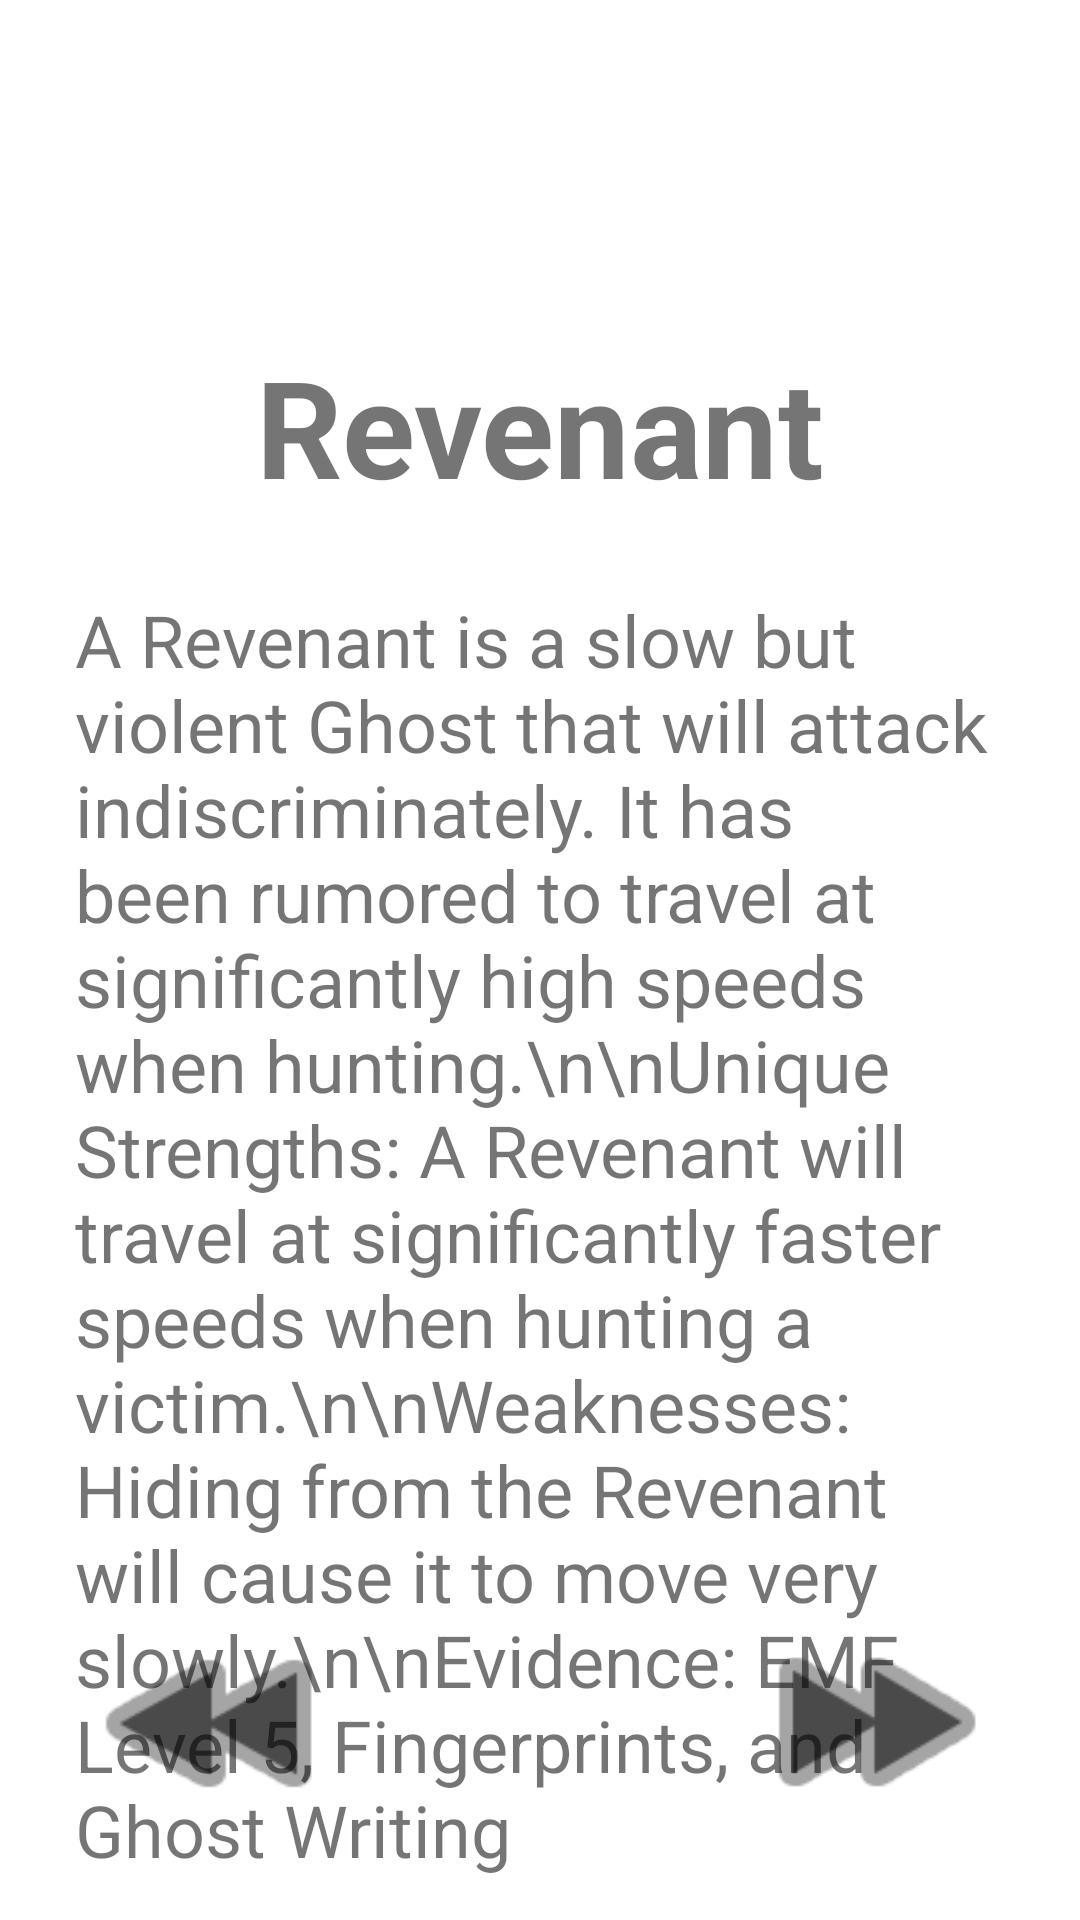

Icon bounding boxes for this 1080 x 1920 phone screenshot, format {"left": x1, "top": y1, "right": x2, "bottom": y2}:
rew: {"left": 78, "top": 1634, "right": 321, "bottom": 1787}
